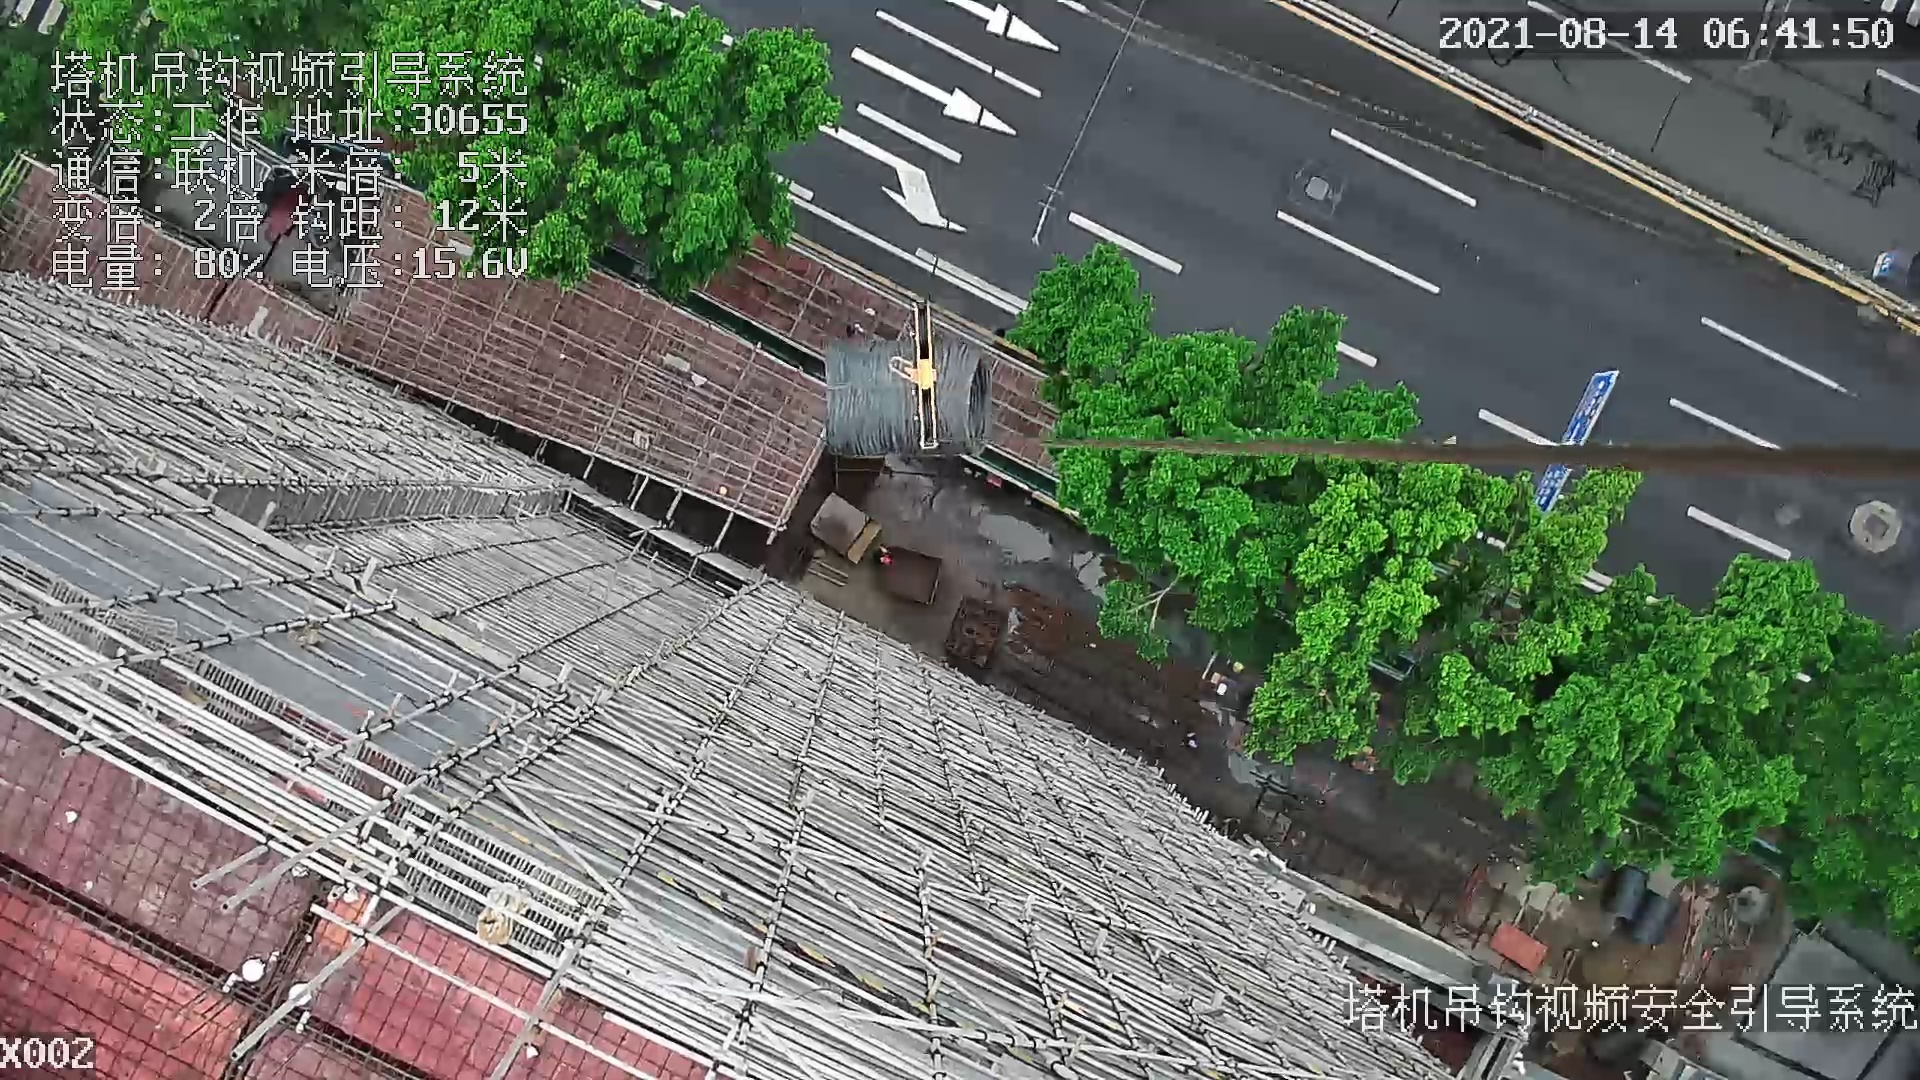hook: (886, 300, 946, 455)
person: (1179, 731, 1196, 752), (875, 548, 892, 569)
